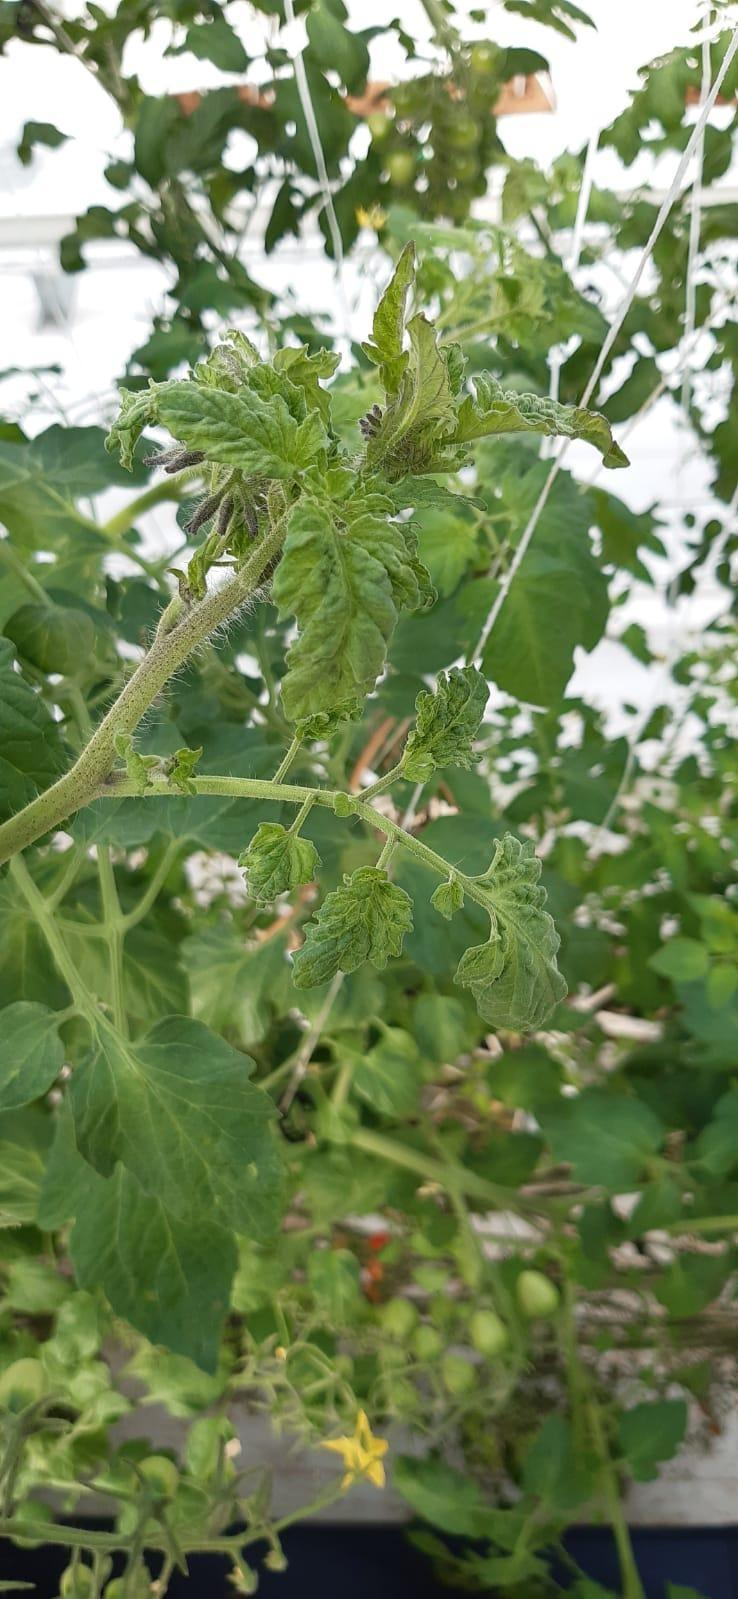Hoja: (41, 1115, 238, 1371), (68, 1015, 281, 1237), (0, 1002, 65, 1107)
Hoja rugoso: (270, 501, 396, 723), (453, 833, 566, 1032), (445, 370, 628, 465), (153, 379, 321, 476), (289, 866, 411, 988), (397, 667, 488, 781), (238, 794, 318, 904), (347, 515, 437, 611), (365, 241, 415, 394)
Pedunculo: (194, 775, 453, 875)
Pedunculo rugoso: (0, 512, 287, 858)
